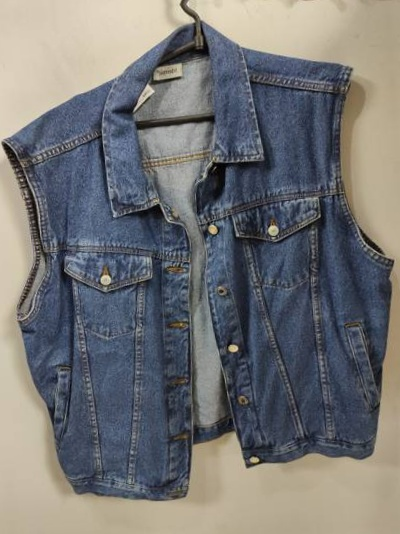Blazer: (0, 6, 397, 508), (0, 0, 362, 2)
